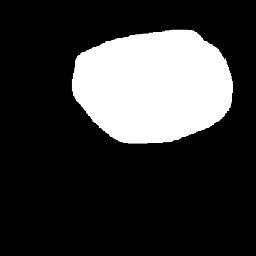mass: (66, 27, 229, 135)
